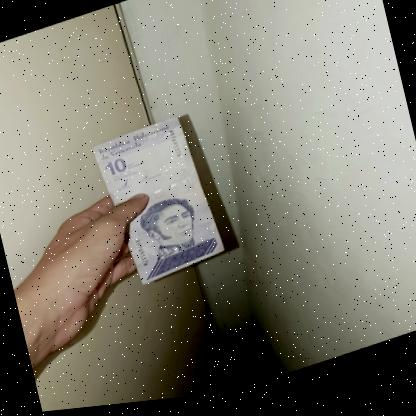ten-front-vef: (90, 113, 228, 296)
